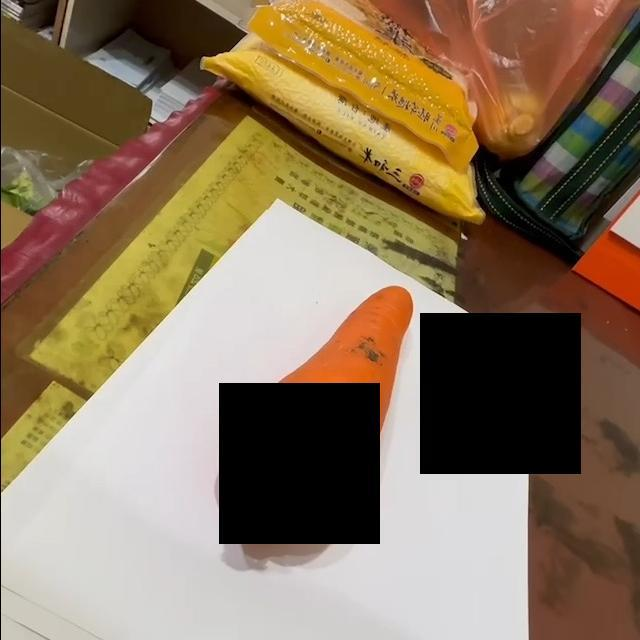carrot: (215, 285, 420, 545)
